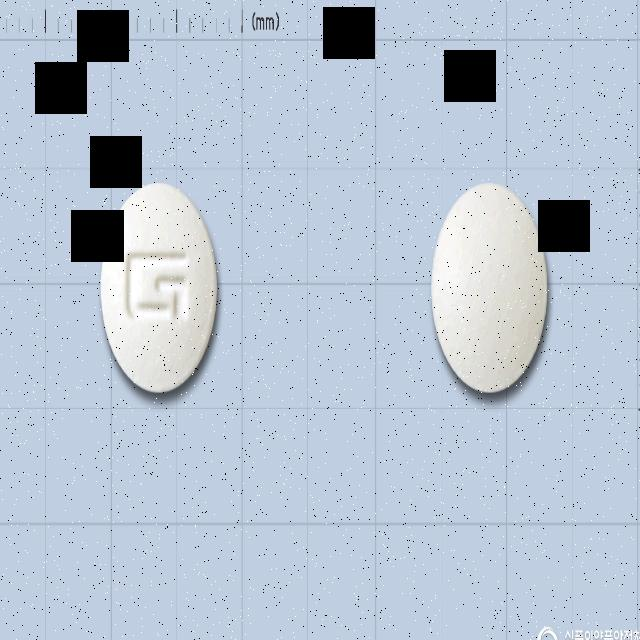Lefexin: (100, 182, 219, 392)
